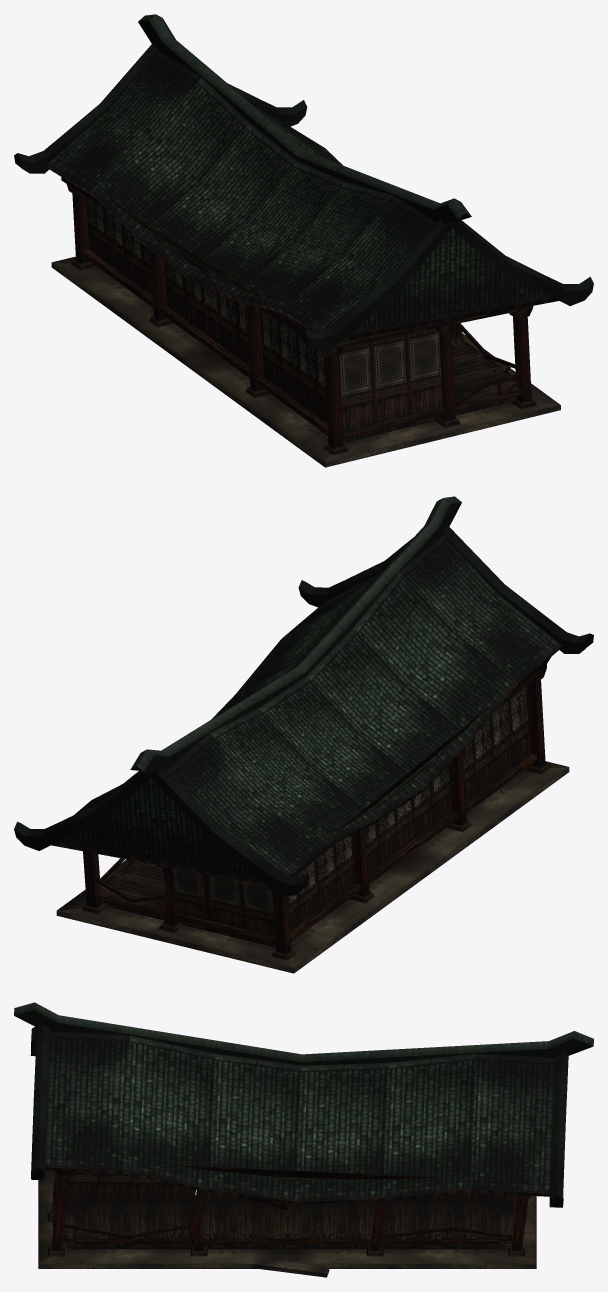
Rendered from c1-033-guesthouse-02_01.glb.
The picture shows the model from 3 angles, top to bottom: view 1: azimuth 30°, elevation 25°; view 2: azimuth 150°, elevation 25°; view 3: azimuth 270°, elevation 25°; orthographic projection. The views are drawn at different scales.
Visible parts, largest first — view 1: c1-033-guesthouse-01; view 2: c1-033-guesthouse-01; view 3: c1-033-guesthouse-01.
Boxes of the visible parts, x1=… form: c1-033-guesthouse-01: x1=14, y1=14, x2=593, y2=467; c1-033-guesthouse-01: x1=14, y1=496, x2=593, y2=973; c1-033-guesthouse-01: x1=14, y1=1002, x2=593, y2=1277.
Bounding box in the file's own units: 14.19 × 11.35 × 27.11.
2 materials, 2 textured.
